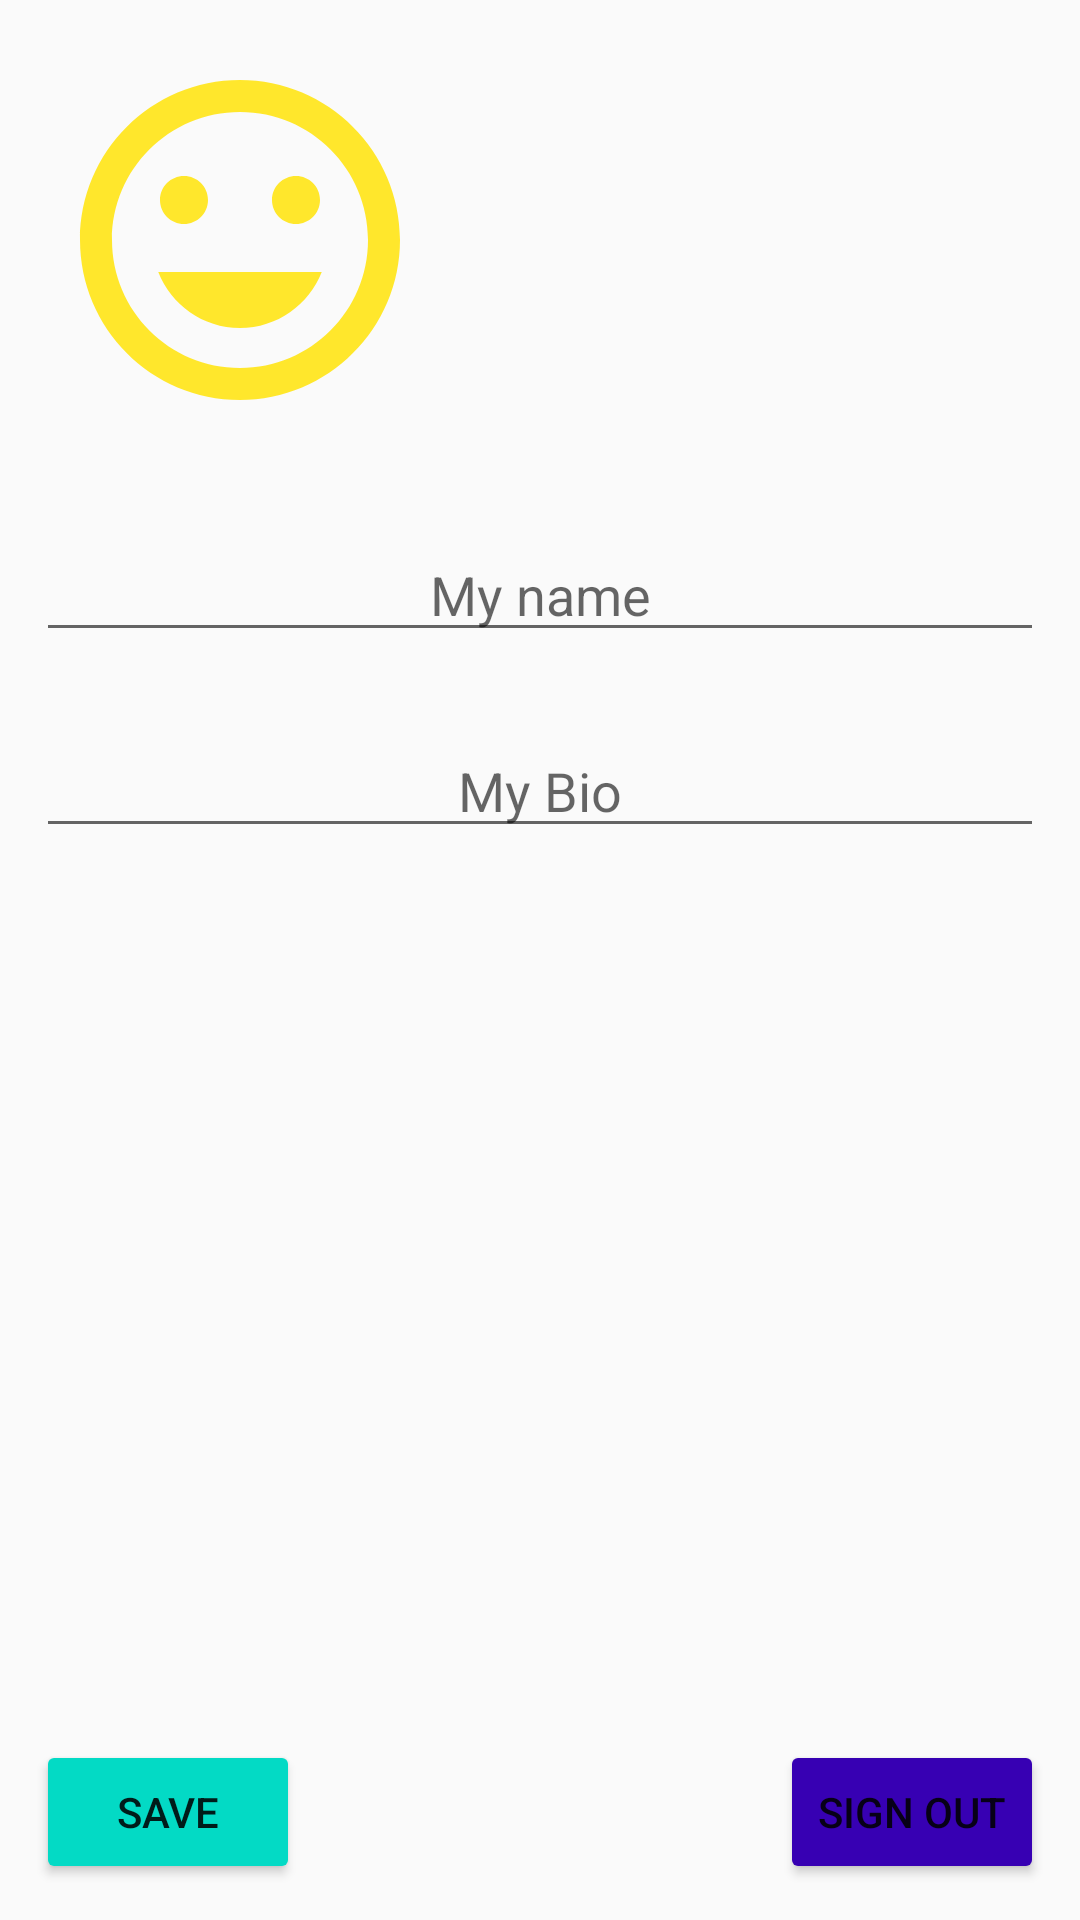

Icon click points for this 1080px x 1920px phone screenshot, format [x,y]:
smile: [240,240]
